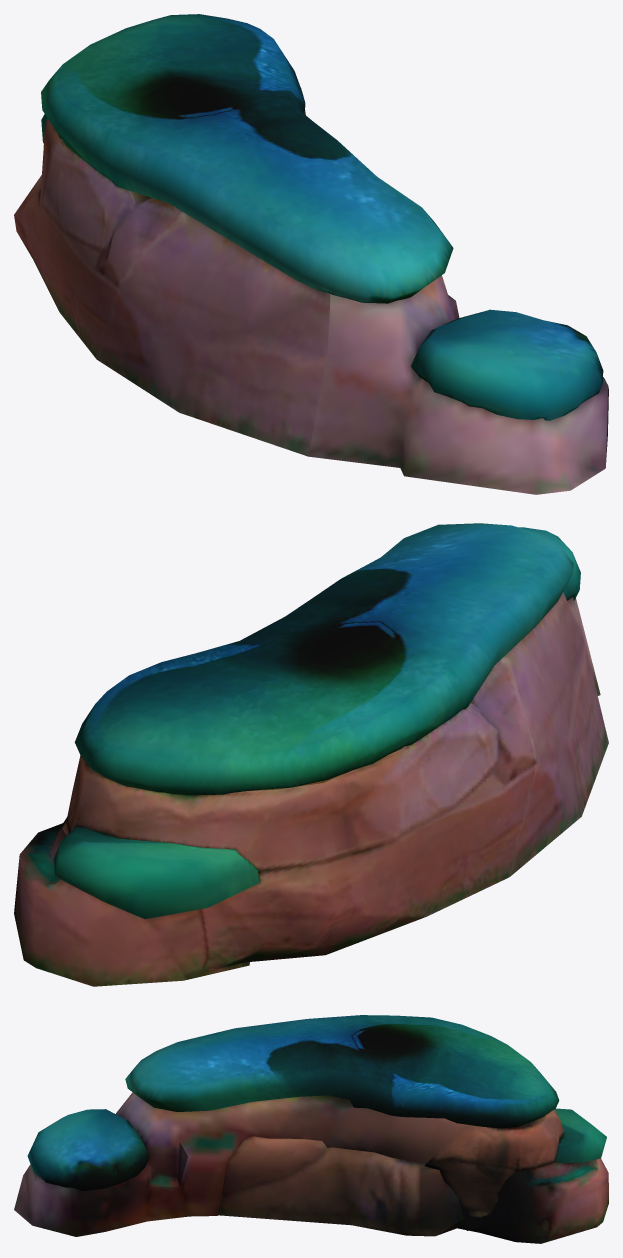
Rendered from pref_sm_4v4beachtech_WSJ_bk_centerblock_R01b_lv2.fbx.
3 views of the same model, one above another, from view 1: azimuth 30°, elevation 25°; view 2: azimuth 150°, elevation 25°; view 3: azimuth 270°, elevation 25° (orthographic). The views are drawn at different scales.
Visible parts, largest first — view 1: pref_sm_4v4beachtech_WSJ_bk_centerblock_R01b_lv2; view 2: pref_sm_4v4beachtech_WSJ_bk_centerblock_R01b_lv2; view 3: pref_sm_4v4beachtech_WSJ_bk_centerblock_R01b_lv2.
Boxes of the visible parts, x1,y1,x2,y2 form: pref_sm_4v4beachtech_WSJ_bk_centerblock_R01b_lv2: [14, 14, 608, 494]; pref_sm_4v4beachtech_WSJ_bk_centerblock_R01b_lv2: [14, 523, 608, 986]; pref_sm_4v4beachtech_WSJ_bk_centerblock_R01b_lv2: [14, 1015, 608, 1243].
Bounding box in the file's own units: 3.16 × 2.07 × 7.71.
